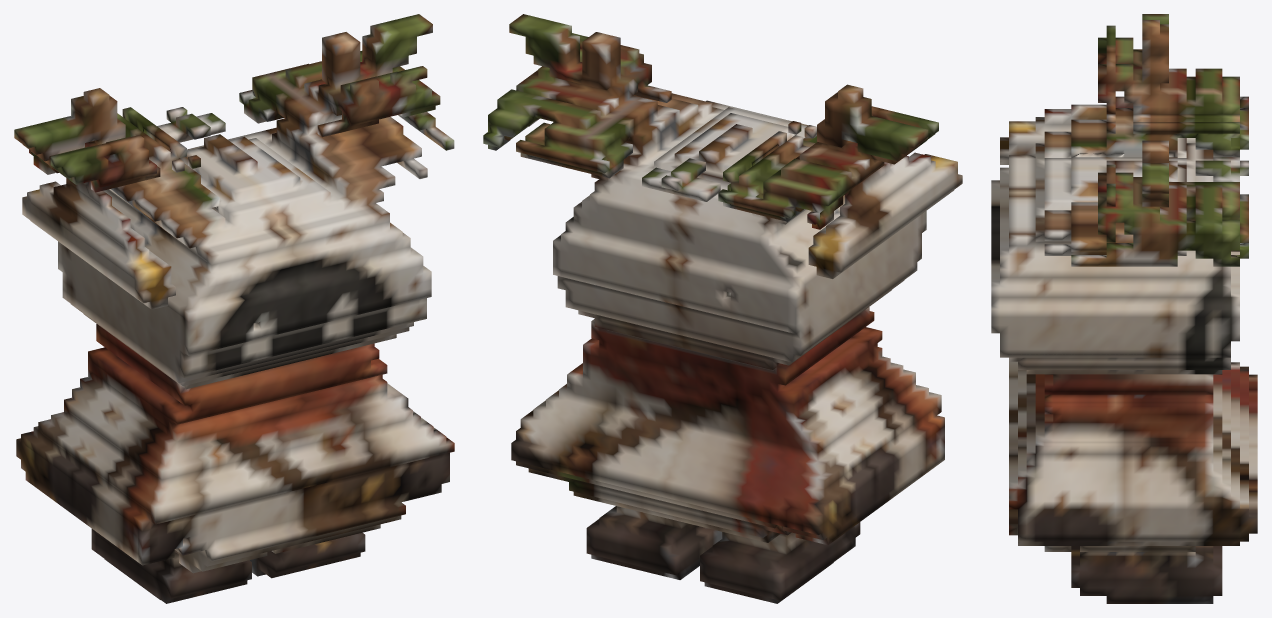
Rendered from sheet2_L4.glb.
The picture shows the model from 3 angles, left to right: view 1: azimuth 30°, elevation 25°; view 2: azimuth 150°, elevation 25°; view 3: azimuth 270°, elevation 25°; orthographic projection. The views are drawn at different scales.
Parts seen in each view (by area): view 1: BPT_sheet2_L4; view 2: BPT_sheet2_L4; view 3: BPT_sheet2_L4.
Part boxes in pixels (left/top/right/bottom): BPT_sheet2_L4: left=14, top=14, right=454, bottom=603; BPT_sheet2_L4: left=483, top=14, right=962, bottom=603; BPT_sheet2_L4: left=991, top=14, right=1257, bottom=603.
Bounding box in the file's own units: 1.69 × 2 × 1.02.
